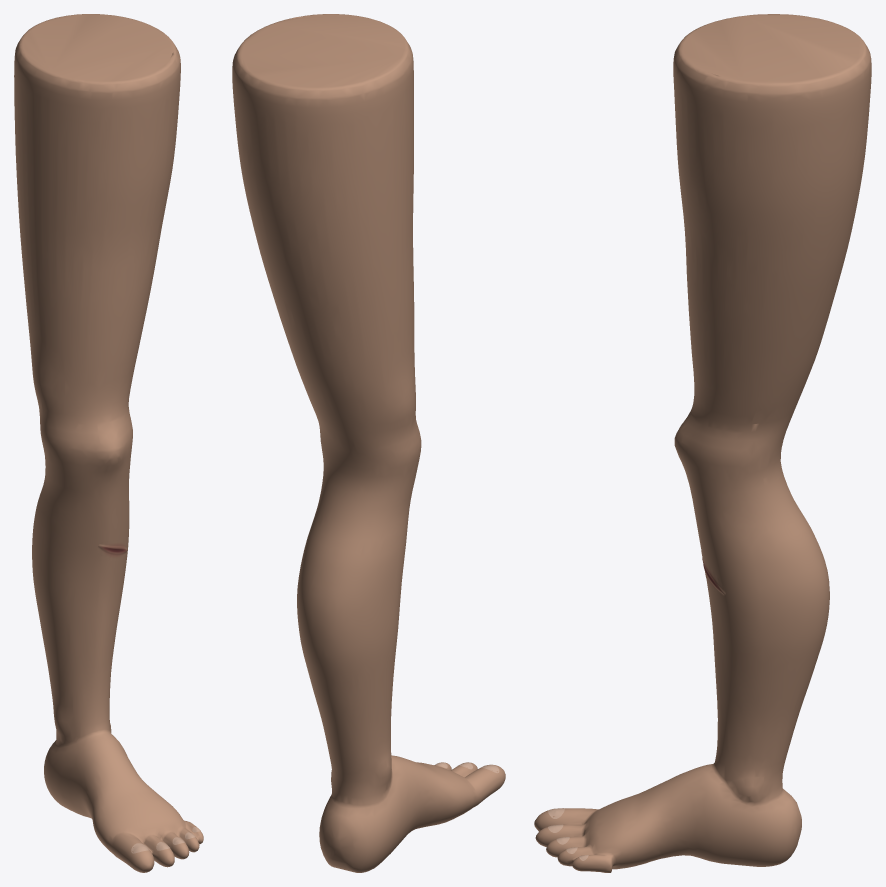
File: FirstAid_Educational_Leg.glb
3 views of the same model, side by side, from view 1: azimuth 30°, elevation 25°; view 2: azimuth 150°, elevation 25°; view 3: azimuth 270°, elevation 25° (orthographic). The views are drawn at different scales.
Visible parts, largest first — view 1: Leg_Skin, Wound_Leg, Leg_Toenails; view 2: Leg_Skin; view 3: Leg_Skin.
Boxes of the visible parts, <box> form: Leg_Skin: <box>14,14,203,872</box>; Wound_Leg: <box>97,539,127,561</box>; Leg_Toenails: <box>131,827,200,853</box>; Leg_Skin: <box>232,14,505,872</box>; Leg_Skin: <box>534,14,871,872</box>.
Bounding box in the file's own units: 0.1892 × 0.954 × 0.3539.
